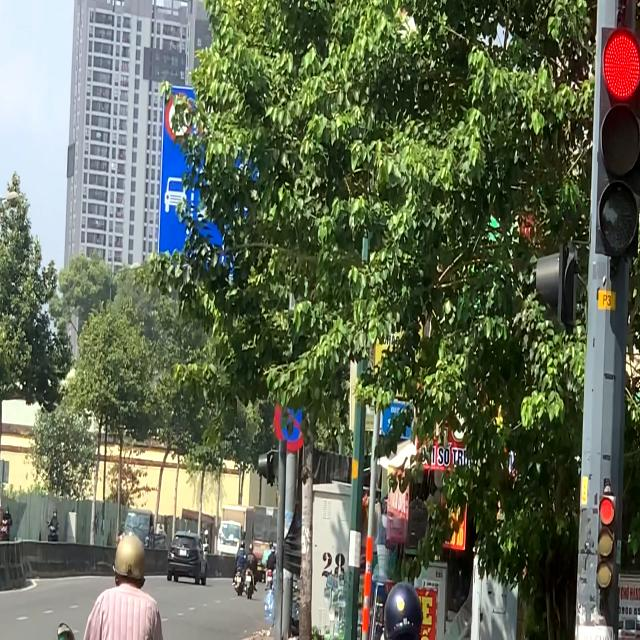P.131a: (274, 387, 312, 452)
